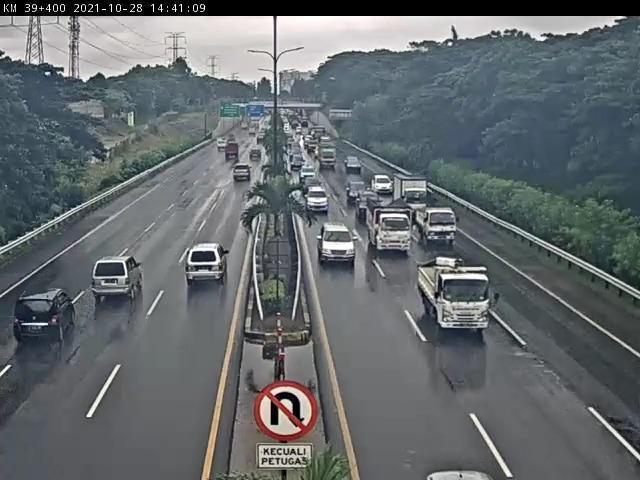car: (317, 223, 358, 265), (306, 188, 330, 215), (358, 192, 384, 216)
truck: (418, 258, 492, 333), (14, 287, 77, 347), (365, 204, 414, 256), (91, 257, 144, 302), (185, 245, 229, 286), (418, 205, 458, 245), (394, 176, 430, 216)
